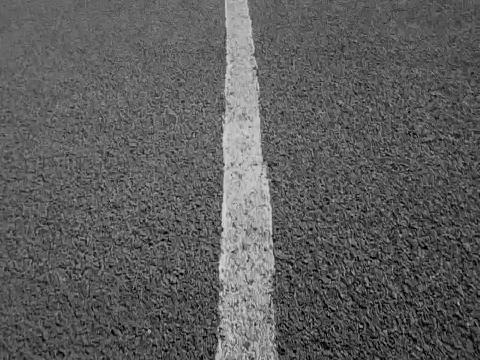Lines: (215, 0, 280, 359)
